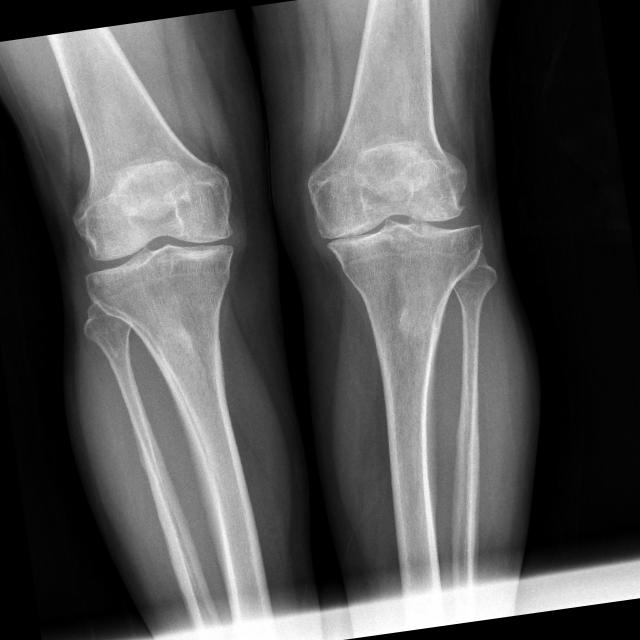Knee: (63, 162, 250, 341), (301, 134, 488, 304)
